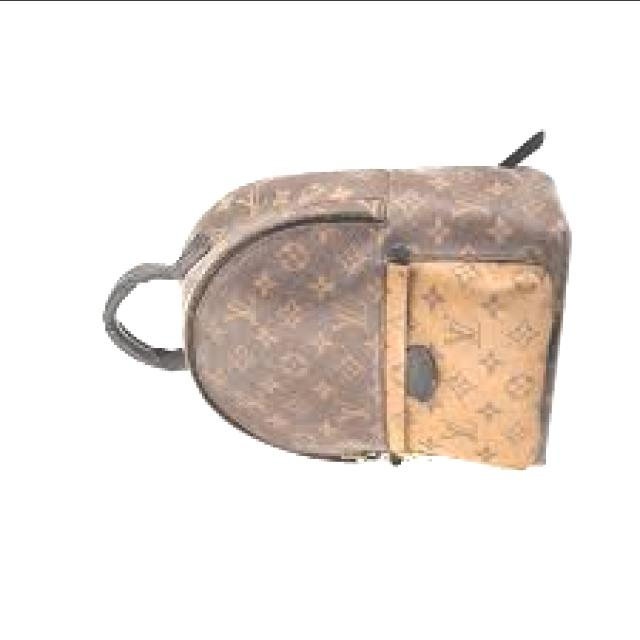backpack: (100, 132, 570, 474)
